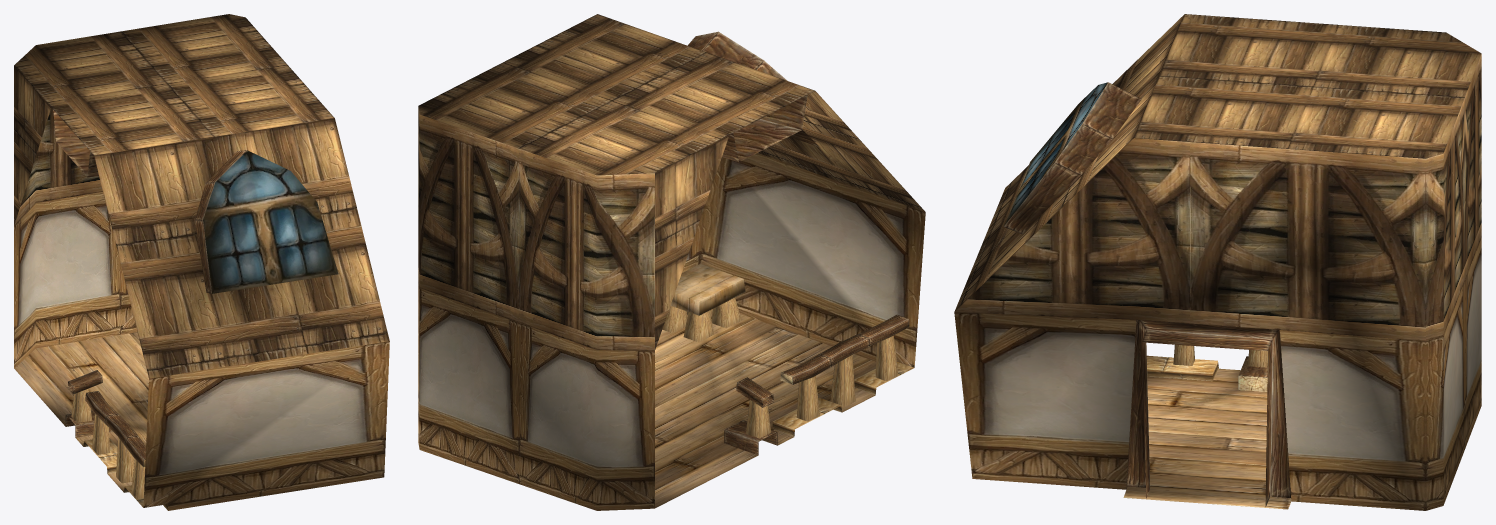
File: stormwind_060.fbx
The picture shows the model from 3 angles, left to right: view 1: azimuth 30°, elevation 25°; view 2: azimuth 150°, elevation 25°; view 3: azimuth 270°, elevation 25°; orthographic projection. The views are drawn at different scales.
Visible parts, largest first — view 1: stormwind_060_55, stormwind_060_48, stormwind_060_84, stormwind_060_51, stormwind_060_53, stormwind_060_49, stormwind_060_54; view 2: stormwind_060_48, stormwind_060_55, stormwind_060_49, stormwind_060_51, stormwind_060_53, stormwind_060_54; view 3: stormwind_060_49, stormwind_060_48, stormwind_060_55, stormwind_060_53, stormwind_060_51, stormwind_060_84, stormwind_060_54.
Part boxes in pixels (<box>): stormwind_060_55: <box>14,14,389,378</box>; stormwind_060_48: <box>14,192,389,510</box>; stormwind_060_84: <box>203,150,338,293</box>; stormwind_060_51: <box>14,332,148,492</box>; stormwind_060_53: <box>53,110,246,510</box>; stormwind_060_49: <box>14,108,102,225</box>; stormwind_060_54: <box>71,388,145,499</box>; stormwind_060_48: <box>418,153,925,510</box>; stormwind_060_55: <box>418,14,925,349</box>; stormwind_060_49: <box>418,108,654,350</box>; stormwind_060_51: <box>655,313,875,508</box>; stormwind_060_53: <box>688,31,913,455</box>; stormwind_060_54: <box>662,263,898,438</box>; stormwind_060_49: <box>954,54,1481,340</box>; stormwind_060_48: <box>954,237,1481,510</box>; stormwind_060_55: <box>954,14,1481,311</box>; stormwind_060_53: <box>1004,82,1290,506</box>; stormwind_060_51: <box>1123,368,1291,509</box>; stormwind_060_84: <box>1004,82,1107,225</box>; stormwind_060_54: <box>1173,344,1267,391</box>.
Size of the model in its own units: 8.12 by 8.49 by 11.5.
